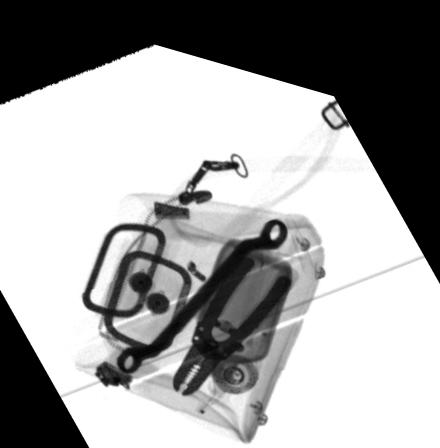Pliers: (170, 242, 291, 387)
Wrench: (114, 201, 287, 365)
